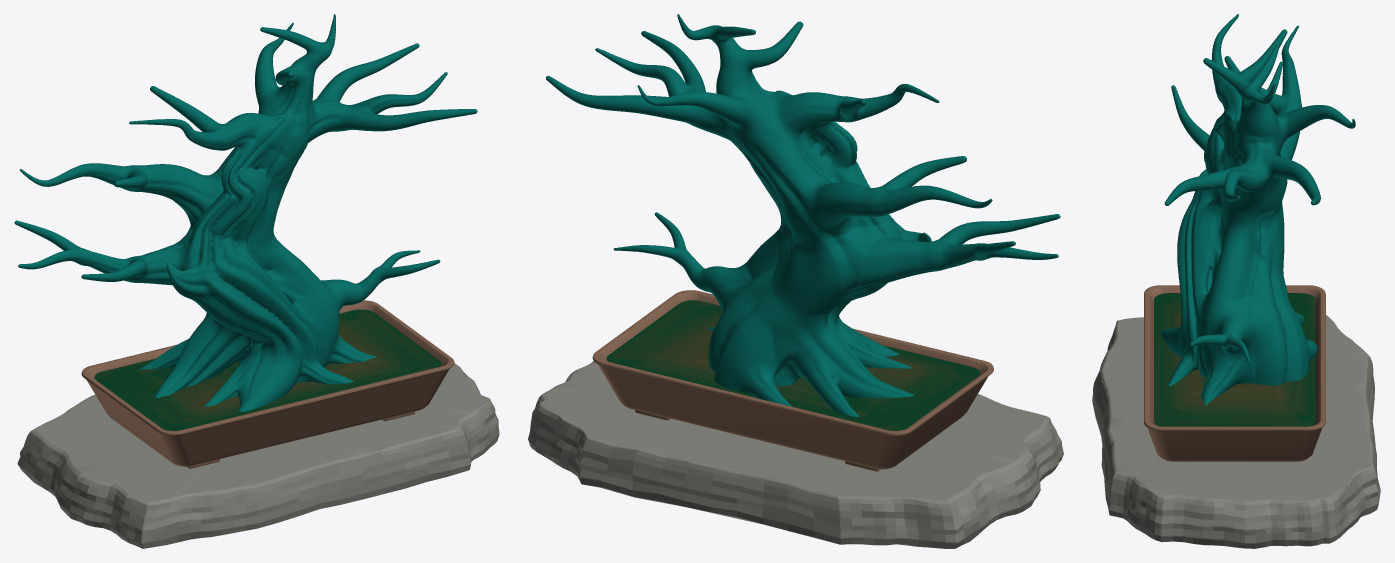
File: hero-v09.glb
3 renders of one model, left to right at view 1: azimuth 30°, elevation 25°; view 2: azimuth 150°, elevation 25°; view 3: azimuth 270°, elevation 25°, orthographic. The views are drawn at different scales.
Visible parts, largest first — view 1: Continuous aged trunk and primary branches, Low split natural bedding stone, Shallow unglazed pot, Continuous planted soil; view 2: Continuous aged trunk and primary branches, Low split natural bedding stone, Shallow unglazed pot, Continuous planted soil; view 3: Continuous aged trunk and primary branches, Low split natural bedding stone, Continuous planted soil, Shallow unglazed pot.
Part boxes in pixels (x1,y1,x2,y2): Continuous aged trunk and primary branches: (14,14,477,411); Low split natural bedding stone: (17,363,499,548); Shallow unglazed pot: (81,300,454,466); Continuous planted soil: (94,309,441,430); Continuous aged trunk and primary branches: (546,14,1060,416); Low split natural bedding stone: (528,361,1063,548); Shallow unglazed pot: (592,290,993,469); Continuous planted soil: (606,300,980,430); Continuous aged trunk and primary branches: (1162,14,1355,405); Low split natural bedding stone: (1092,315,1380,548); Continuous planted soil: (1154,293,1315,426); Shallow unglazed pot: (1144,285,1325,461).
Bounding box in the file's own units: 2.48 × 2.15 × 1.36.
